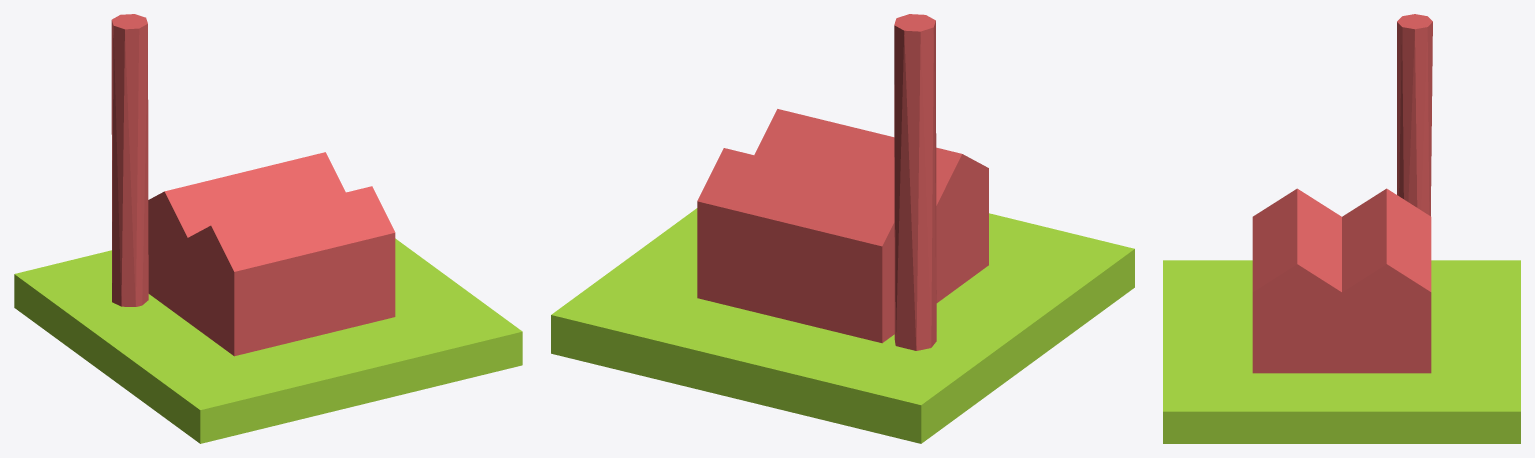
The model's file is factory.fbx.
The picture shows the model from 3 angles, left to right: view 1: azimuth 30°, elevation 25°; view 2: azimuth 150°, elevation 25°; view 3: azimuth 270°, elevation 25°; orthographic projection. The views are drawn at different scales.
Parts seen in each view (by area): view 1: Cube.001, Cube; view 2: Cube, Cube.001; view 3: Cube, Cube.001.
Boxes of the visible parts, x1,y1,x2,y2 form: Cube.001: (111,14,395,356); Cube: (14,238,522,443); Cube: (551,208,1134,443); Cube.001: (697,14,988,350); Cube: (1163,260,1520,443); Cube.001: (1252,14,1432,373).
Bounding box in the file's own units: 200 × 185 × 200.
